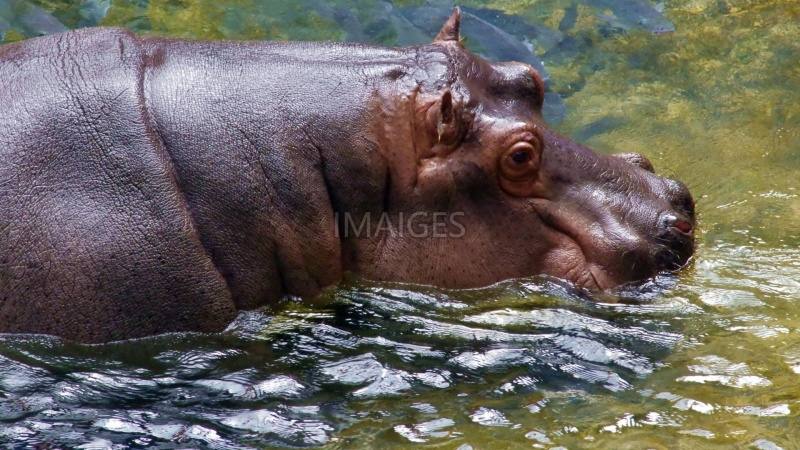hipopotamo: (0, 0, 688, 322)
